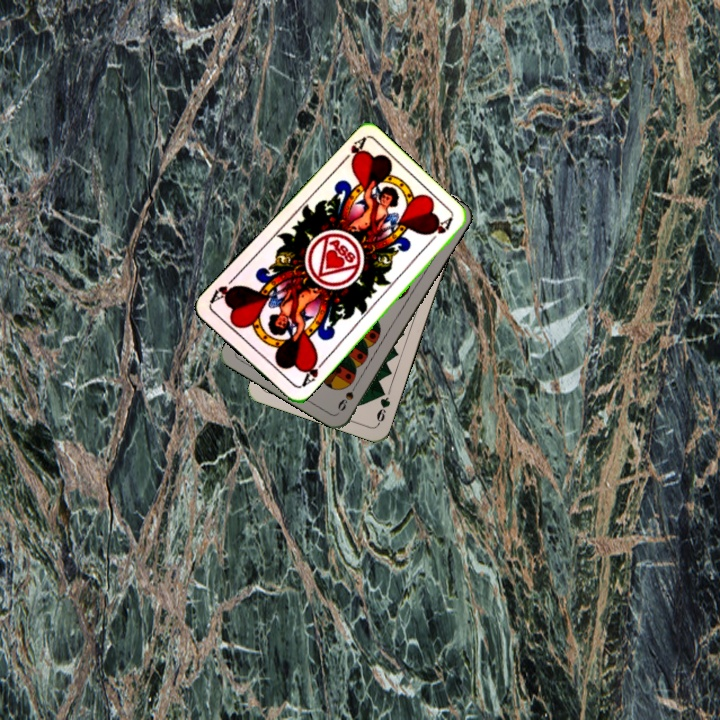G9: (372, 385, 393, 427)
HA: (296, 353, 327, 389), (336, 134, 368, 168)
S9: (333, 377, 361, 414)
